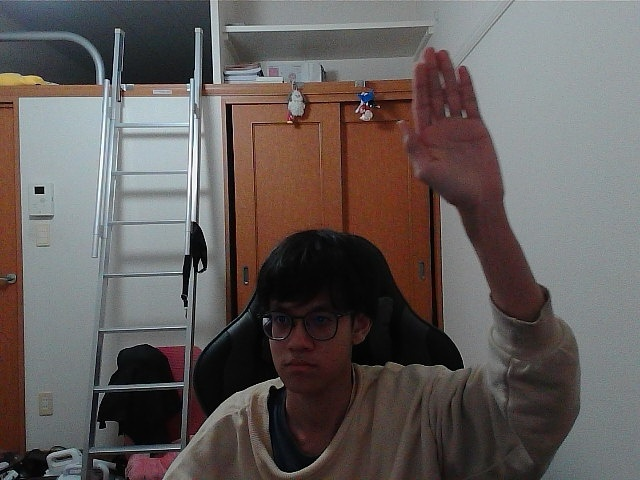open_palm: (404, 56, 481, 196)
